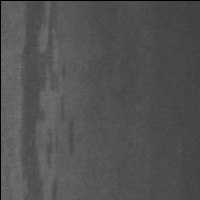inclusion: (19, 2, 66, 200)
